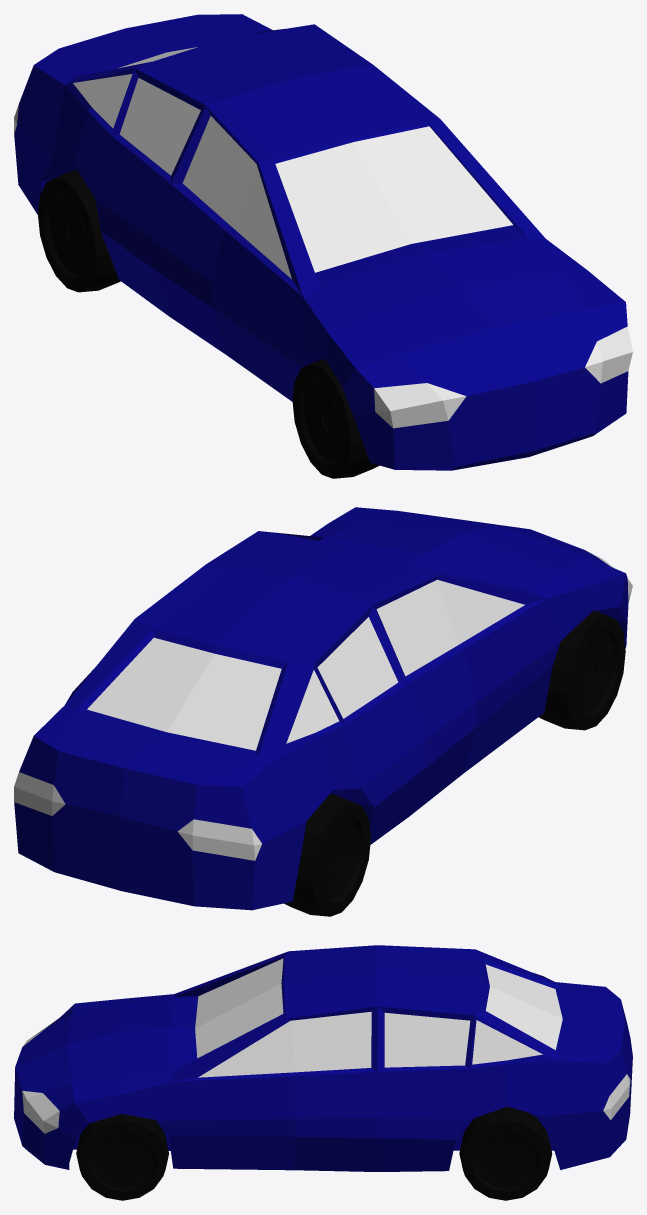
Rendered from Car_mediaasset.fbx.
3 views of the same model, one above another, from view 1: azimuth 30°, elevation 25°; view 2: azimuth 150°, elevation 25°; view 3: azimuth 270°, elevation 25° (orthographic). The views are drawn at different scales.
Visible parts, largest first — view 1: car_media; view 2: car_media; view 3: car_media.
Part boxes in pixels (left/top/right/bottom): car_media: left=14, top=14, right=632, bottom=478; car_media: left=14, top=507, right=632, bottom=916; car_media: left=14, top=945, right=632, bottom=1200.
Bounding box in the file's own units: 400 × 331 × 1026.
